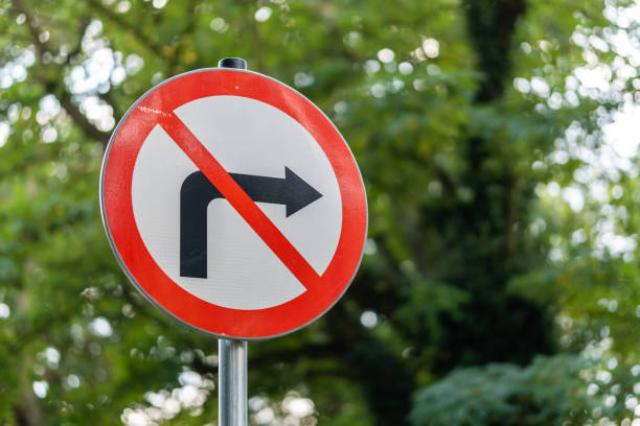not_turn_right: (100, 63, 368, 338)
